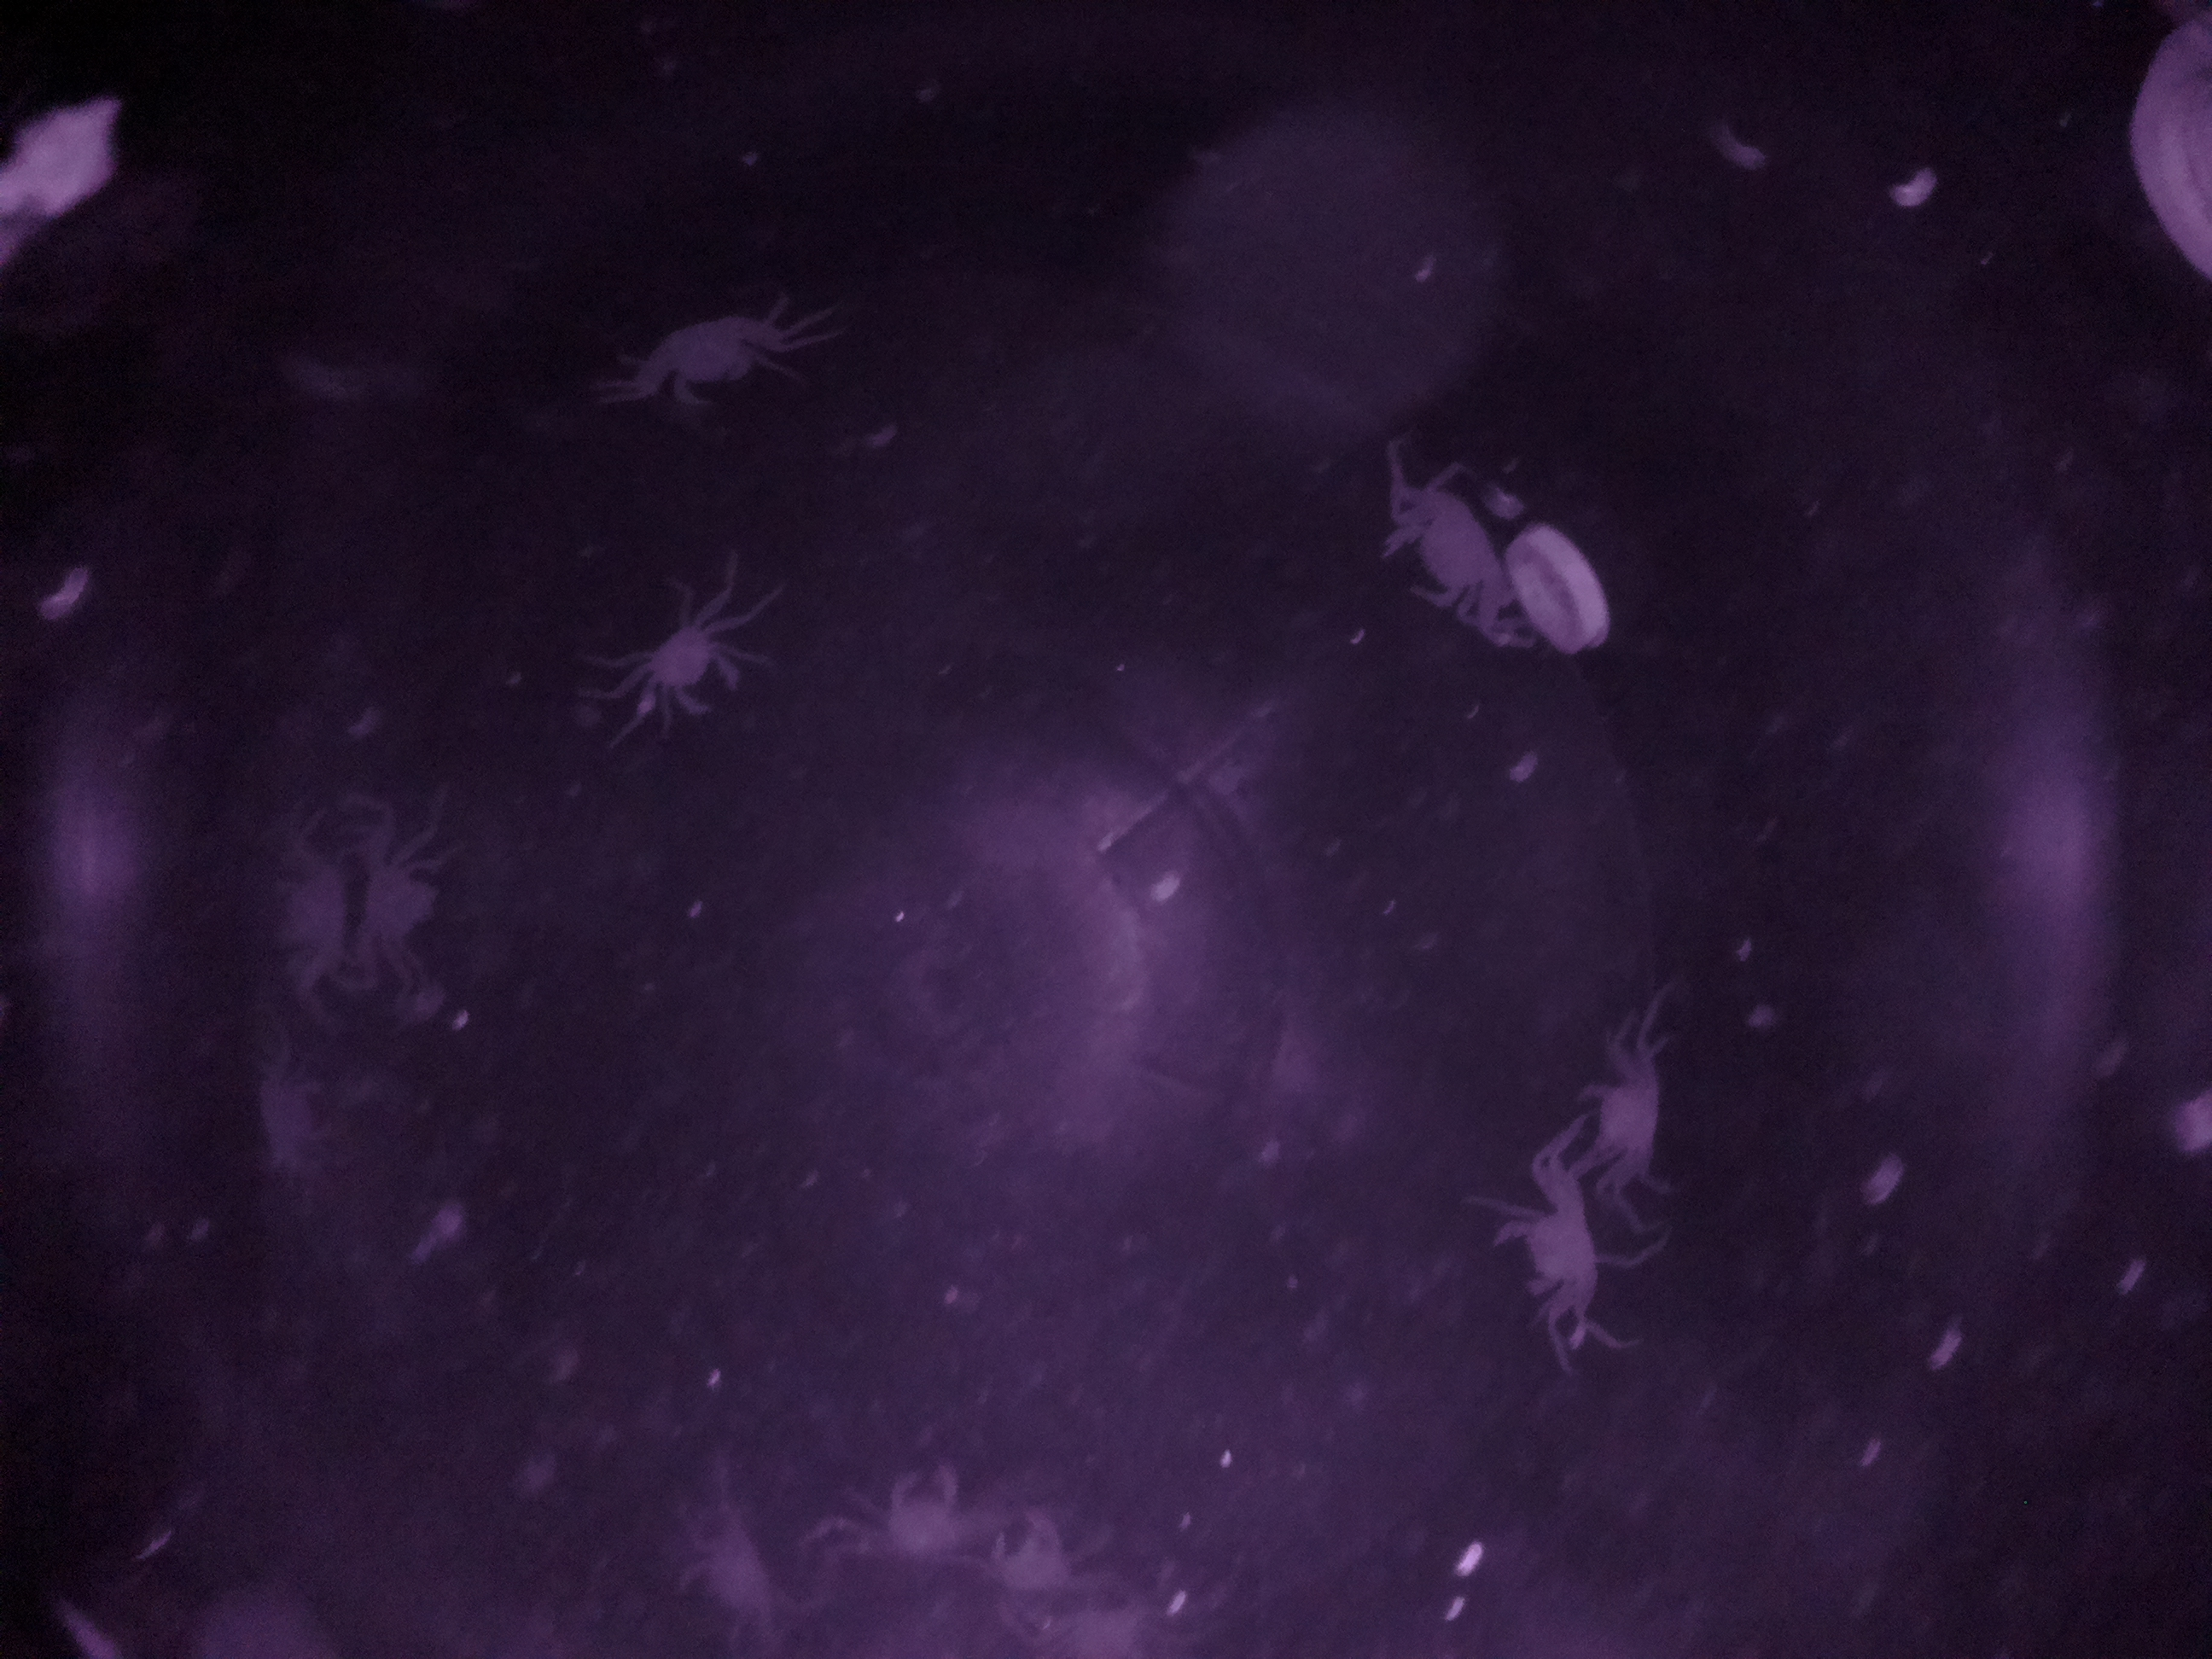Crab: (1470, 1164, 1642, 1344), (624, 598, 766, 737)
